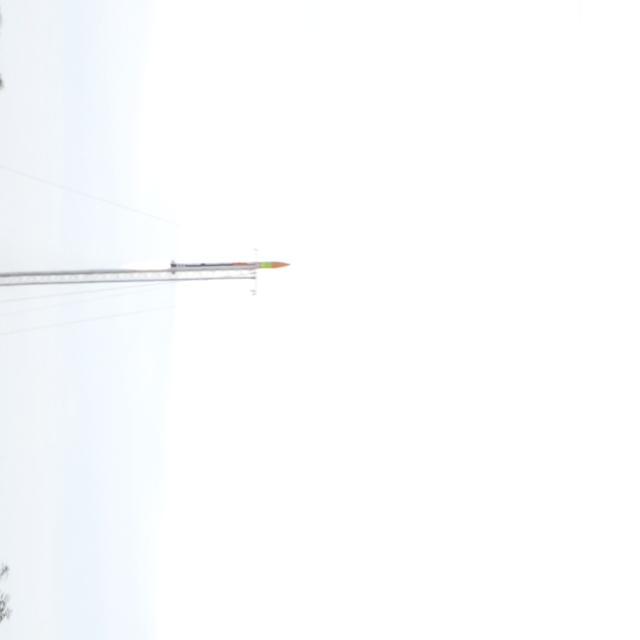Rocket: (171, 260, 291, 274)
